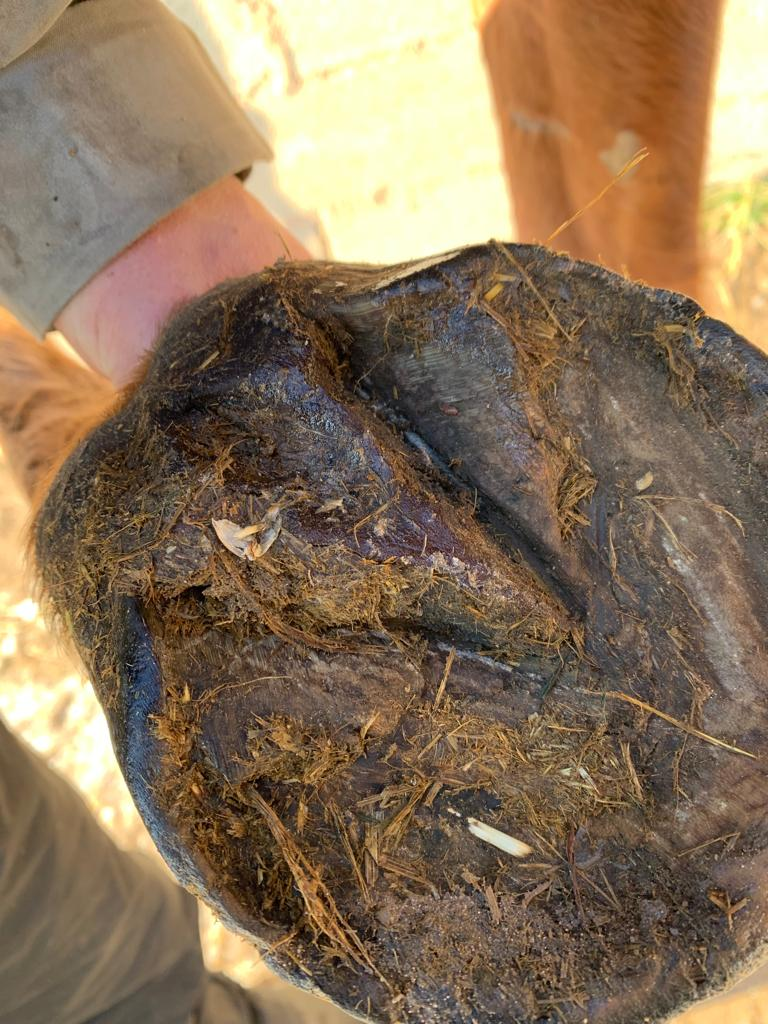horsesole: (113, 242, 768, 1024)
